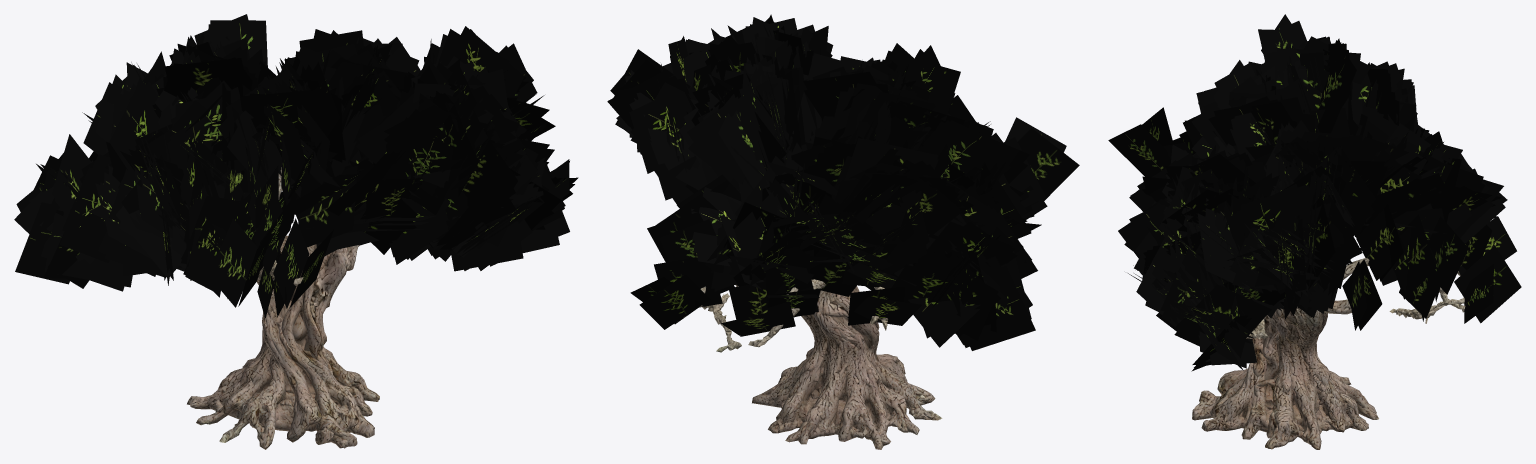
The model's file is elia_foliage.fbx.
The picture shows the model from 3 angles, left to right: view 1: azimuth 30°, elevation 25°; view 2: azimuth 150°, elevation 25°; view 3: azimuth 270°, elevation 25°; orthographic projection. The views are drawn at different scales.
Visible parts, largest first — view 1: Foliage, Trunk_and_branches; view 2: Foliage, Trunk_and_branches; view 3: Foliage, Trunk_and_branches.
Boxes of the visible parts, x1,y1,x2,y2 form: Foliage: (14,14,578,318); Trunk_and_branches: (187,167,379,449); Foliage: (607,14,1079,350); Trunk_and_branches: (683,279,942,449); Foliage: (1108,14,1521,371); Trunk_and_branches: (1192,258,1465,449).
Size of the model in its own units: 4.85 by 3.69 by 3.92.
2 materials, 2 textured.
